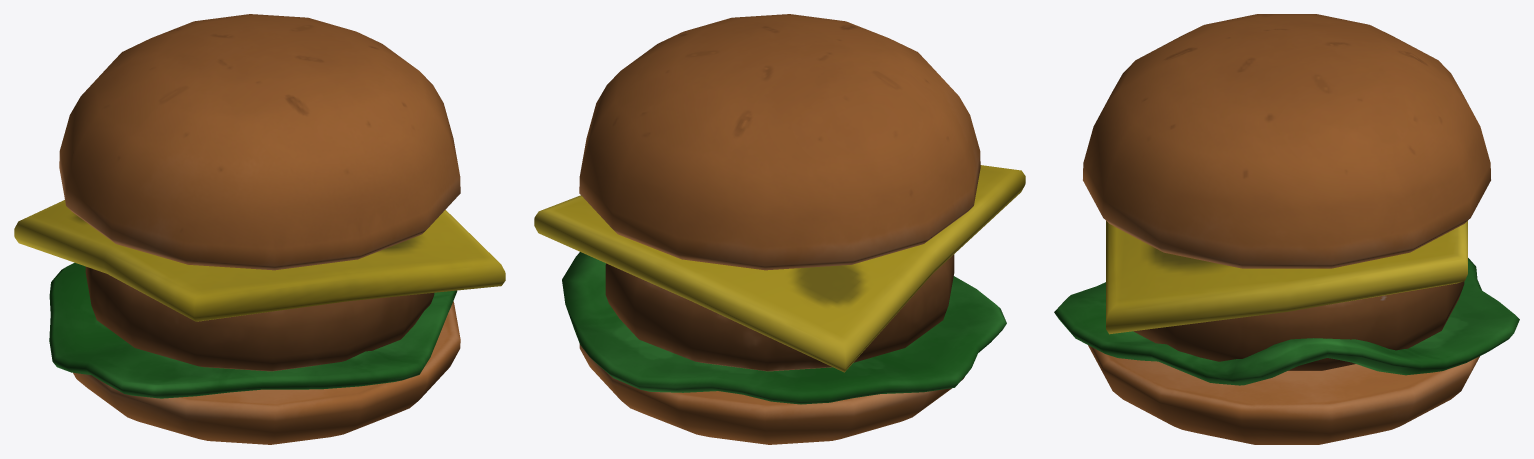
Rendered from MSH_Hamburguesa_P_C_L_Q_J.fbx.
The picture shows the model from 3 angles, left to right: view 1: azimuth 30°, elevation 25°; view 2: azimuth 150°, elevation 25°; view 3: azimuth 270°, elevation 25°; orthographic projection.
Visible parts, largest first — view 1: MSH_Hamburguesa_P_C_L_Q_J; view 2: MSH_Hamburguesa_P_C_L_Q_J; view 3: MSH_Hamburguesa_P_C_L_Q_J.
Boxes of the visible parts, x1,y1,x2,y2 form: MSH_Hamburguesa_P_C_L_Q_J: (14, 14, 505, 444); MSH_Hamburguesa_P_C_L_Q_J: (534, 14, 1025, 444); MSH_Hamburguesa_P_C_L_Q_J: (1054, 14, 1519, 444).
Bounding box in the file's own units: 16.25 × 16.87 × 13.67.
Materials: 1 (1 with a texture image).
